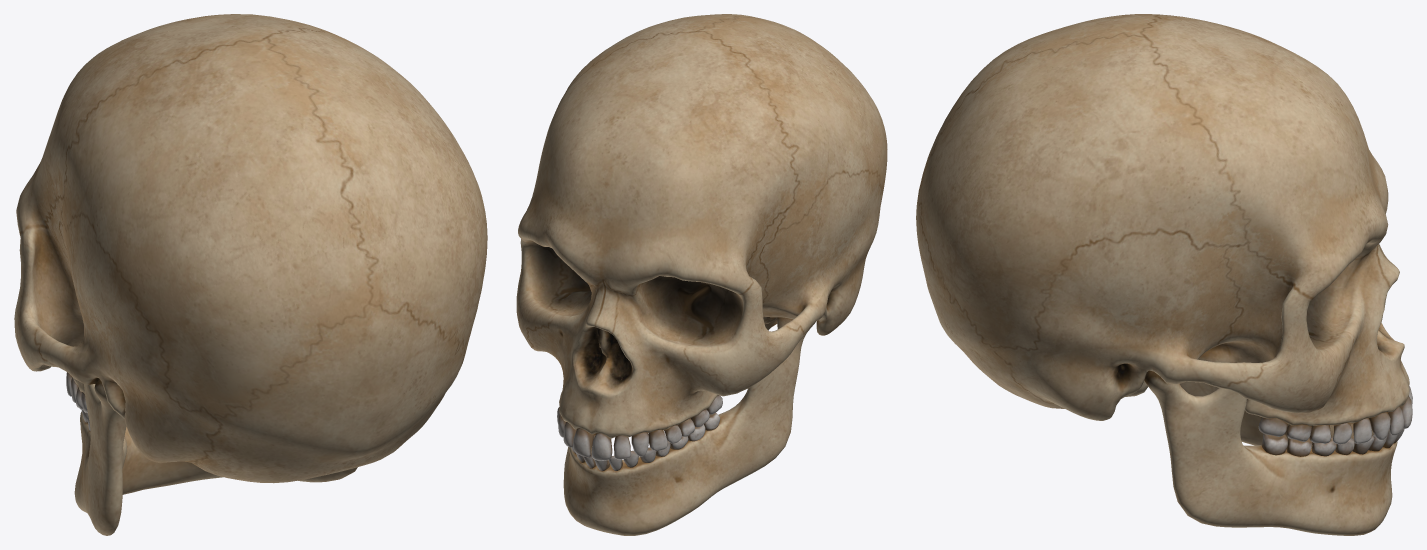
File: human_skull.glb
3 renders of one model, left to right at view 1: azimuth 30°, elevation 25°; view 2: azimuth 150°, elevation 25°; view 3: azimuth 270°, elevation 25°, orthographic. The views are drawn at different scales.
Visible parts, largest first — view 1: g, g.001; view 2: g, g.001, g.003, g.002; view 3: g, g.001, g.003, g.002.
Part boxes in pixels (bbox=[...]): g: bbox=[14, 14, 487, 483]; g.001: bbox=[74, 379, 357, 535]; g: bbox=[516, 14, 887, 438]; g.001: bbox=[563, 317, 815, 535]; g.003: bbox=[557, 395, 722, 460]; g.002: bbox=[571, 412, 720, 471]; g: bbox=[916, 14, 1409, 425]; g.001: bbox=[1144, 370, 1397, 535]; g.003: bbox=[1258, 386, 1412, 444]; g.002: bbox=[1261, 429, 1404, 456].
Bounding box in the file's own units: 1.23 × 1.82 × 1.68.
Materials: 1 (1 with a texture image).
